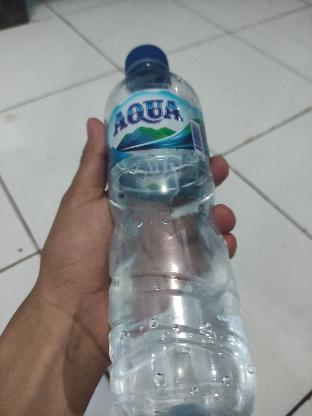Plastic Bottle: (102, 44, 258, 416)
